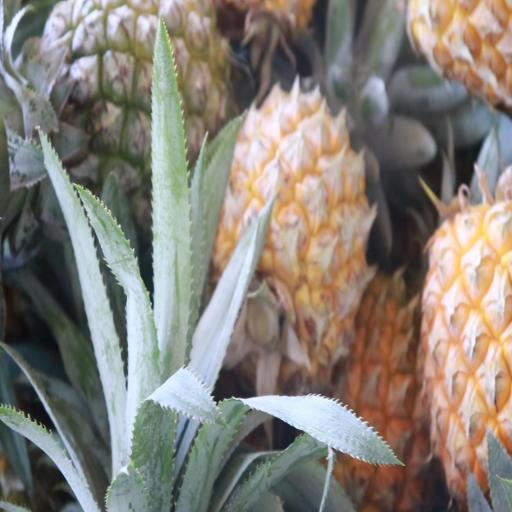Pineapple - v8 v1: (216, 91, 372, 375), (416, 197, 512, 504)
